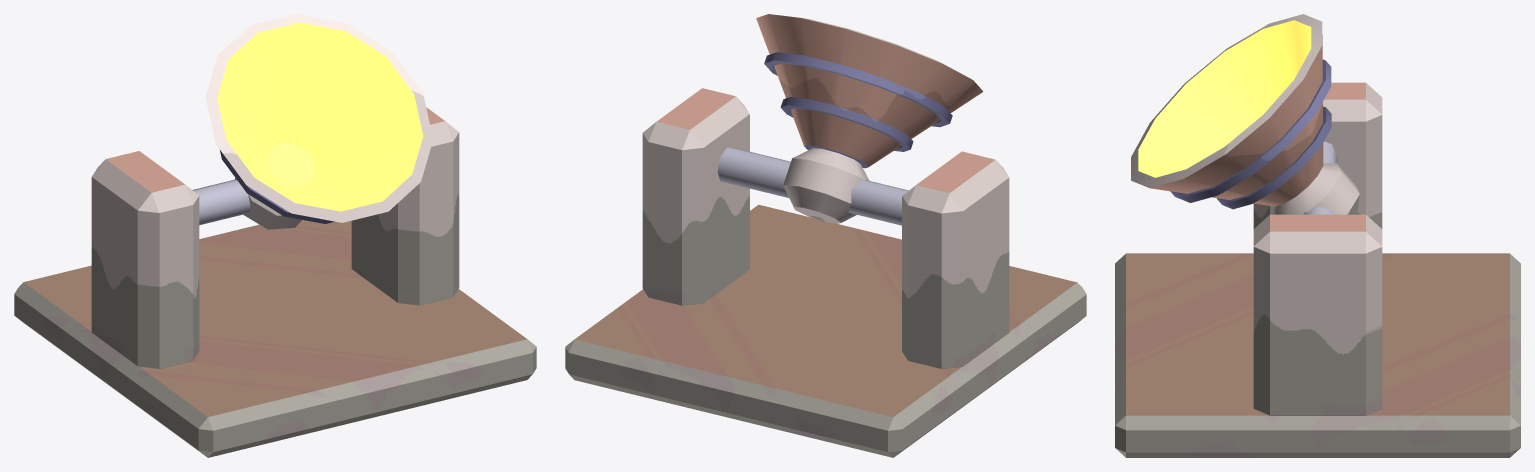
The model's file is R4X_DeployableAmplifier_LOD1.glb.
The picture shows the model from 3 angles, left to right: view 1: azimuth 30°, elevation 25°; view 2: azimuth 150°, elevation 25°; view 3: azimuth 270°, elevation 25°; orthographic projection. The views are drawn at different scales.
Visible parts, largest first — view 1: R4X_DeployableAmplifier_LOD1; view 2: R4X_DeployableAmplifier_LOD1; view 3: R4X_DeployableAmplifier_LOD1.
Part boxes in pixels (box(x1,y1,x2,y2)): R4X_DeployableAmplifier_LOD1: box(14, 14, 536, 457); R4X_DeployableAmplifier_LOD1: box(565, 14, 1086, 457); R4X_DeployableAmplifier_LOD1: box(1115, 14, 1520, 457).
Bounding box in the file's own units: 0.52 × 0.4855 × 0.52.
5 materials, 4 textured.
